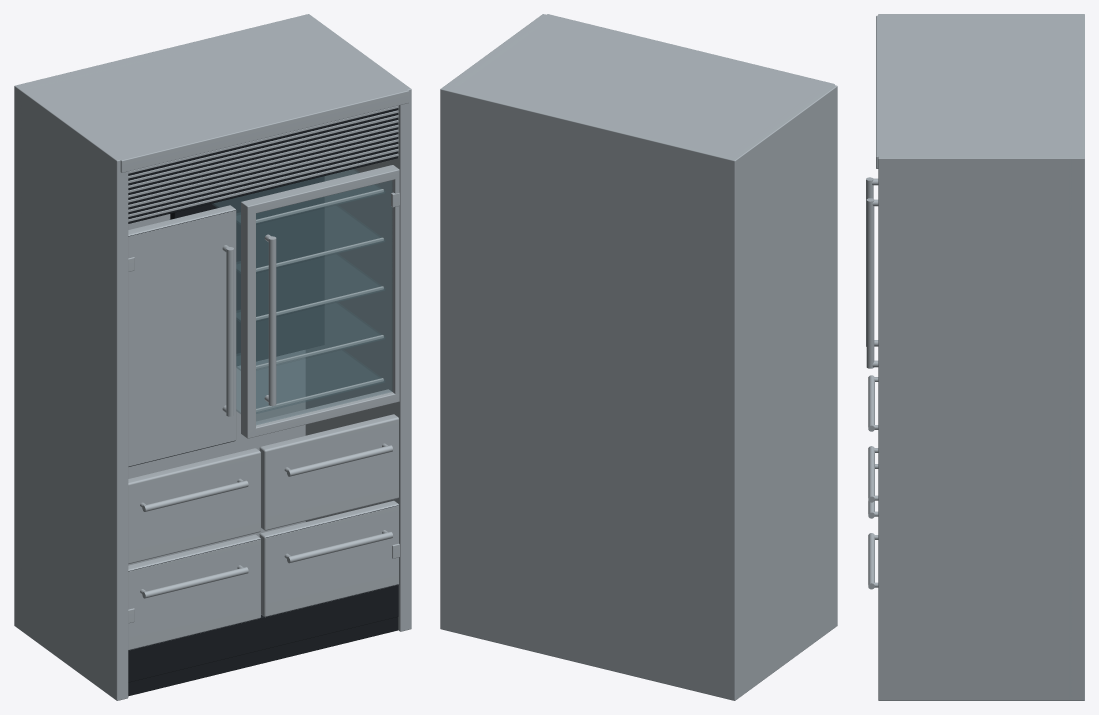
File: luxury-pro-glass-fridge.glb
3 renders of one model, left to right at view 1: azimuth 30°, elevation 25°; view 2: azimuth 150°, elevation 25°; view 3: azimuth 270°, elevation 25°, orthographic.
Parts seen in each view (by area): view 1: luxury-pro-glass-fridge; view 2: luxury-pro-glass-fridge; view 3: luxury-pro-glass-fridge.
Part boxes in pixels (x1=…): luxury-pro-glass-fridge: x1=14, y1=14, x2=411, y2=700; luxury-pro-glass-fridge: x1=440, y1=14, x2=837, y2=700; luxury-pro-glass-fridge: x1=866, y1=14, x2=1084, y2=700.
Bounding box in the file's own units: 1.22 × 2.13 × 0.78.
